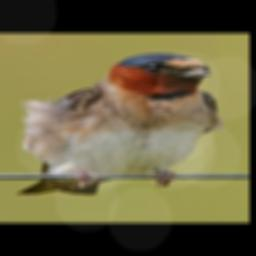Swallow: (15, 52, 225, 196)
